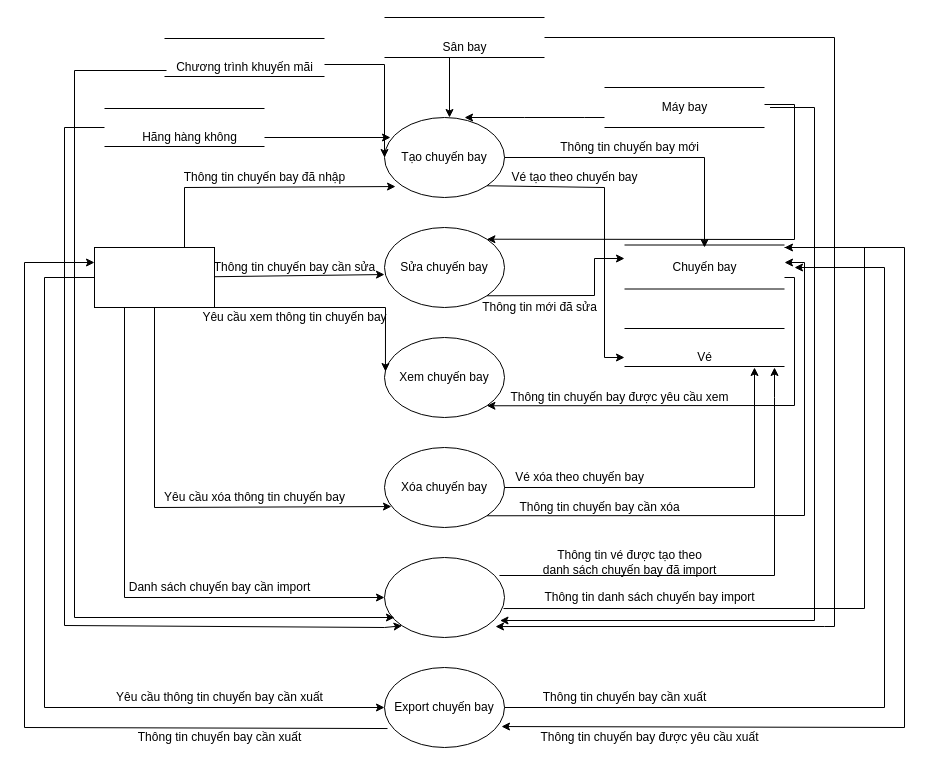
The diagram is 930 pixels wide and 765 high, and some of its shapes have lost their labels. Here are the shapes that lost their labels. From the top down, the box of each, then its label:
(94, 246, 214, 308): Nhân viên
(384, 556, 504, 638): Import chuyến bay
